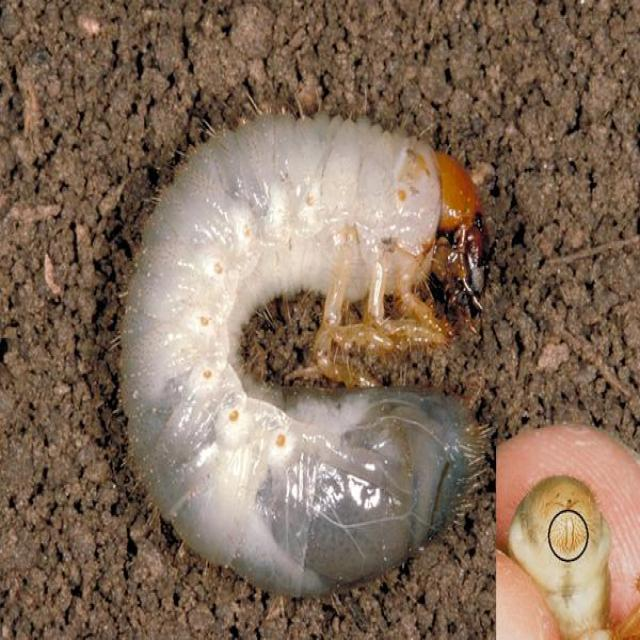Grub-Adult-: (113, 102, 481, 590)
